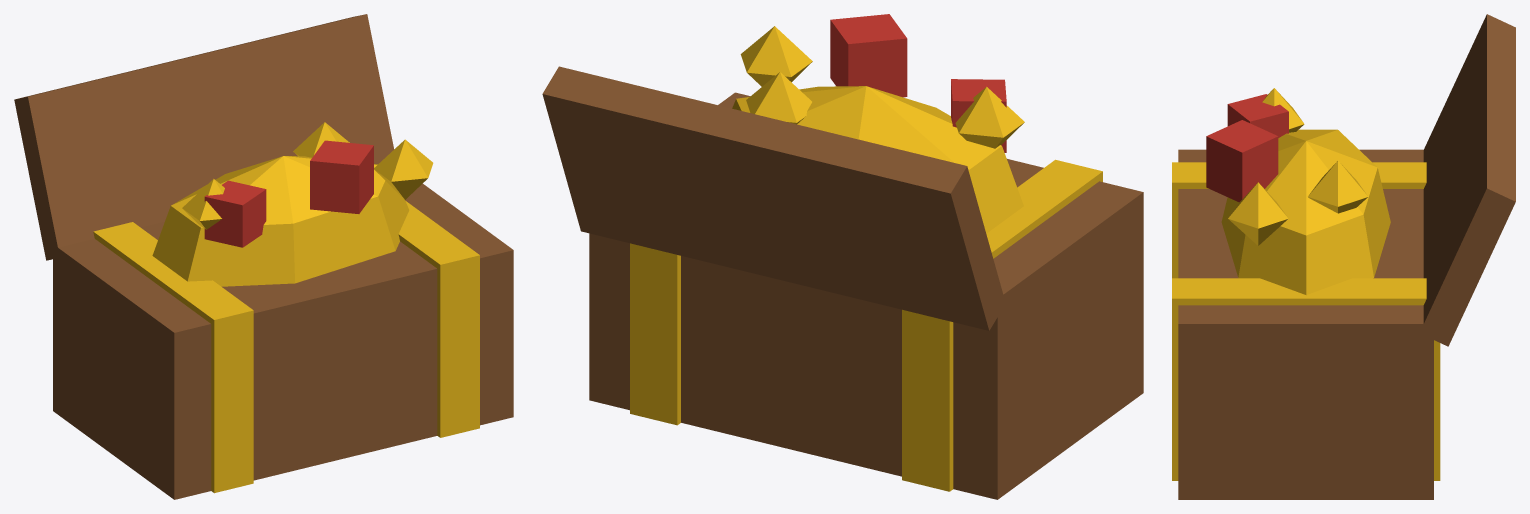
File: env_r13_treasure_chest.glb
3 renders of one model, left to right at view 1: azimuth 30°, elevation 25°; view 2: azimuth 150°, elevation 25°; view 3: azimuth 270°, elevation 25°, orthographic. The views are drawn at different scales.
Visible parts, largest first — view 1: env_r13_treasure_chest; view 2: env_r13_treasure_chest; view 3: env_r13_treasure_chest.
Part boxes in pixels (x1=…): env_r13_treasure_chest: x1=14, y1=14, x2=513, y2=499; env_r13_treasure_chest: x1=542, y1=14, x2=1143, y2=499; env_r13_treasure_chest: x1=1172, y1=14, x2=1515, y2=499.
Bounding box in the file's own units: 1.2 × 1 × 1.
1 material, 1 textured.
